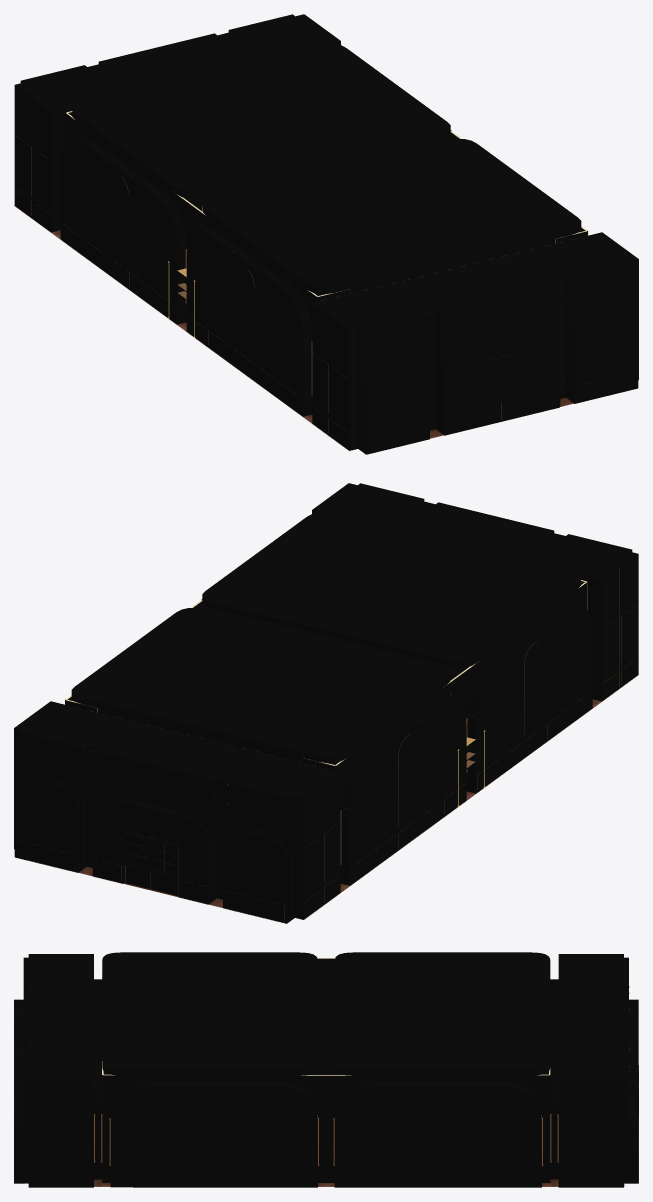
Rendered from lobby.glb.
3 renders of one model, top to bottom at view 1: azimuth 30°, elevation 25°; view 2: azimuth 150°, elevation 25°; view 3: azimuth 270°, elevation 25°, orthographic. The views are drawn at different scales.
Visible parts, largest first — view 1: Material2, Material3; view 2: Material2, Material3 (×3); view 3: Material2, Material3 (×2).
Boxes of the visible parts, left/top/right/bottom form: Material2: left=14, top=14, right=638, bottom=454; Material3: left=15, top=111, right=587, bottom=450; Material2: left=14, top=483, right=638, bottom=923; Material3 (×3): left=15, top=569, right=638, bottom=923; Material2: left=14, top=952, right=638, bottom=1187; Material3 (×2): left=24, top=958, right=638, bottom=1186.
Bounding box in the file's own units: 485 × 203 × 1017.
Materials: 12 (11 with a texture image).
